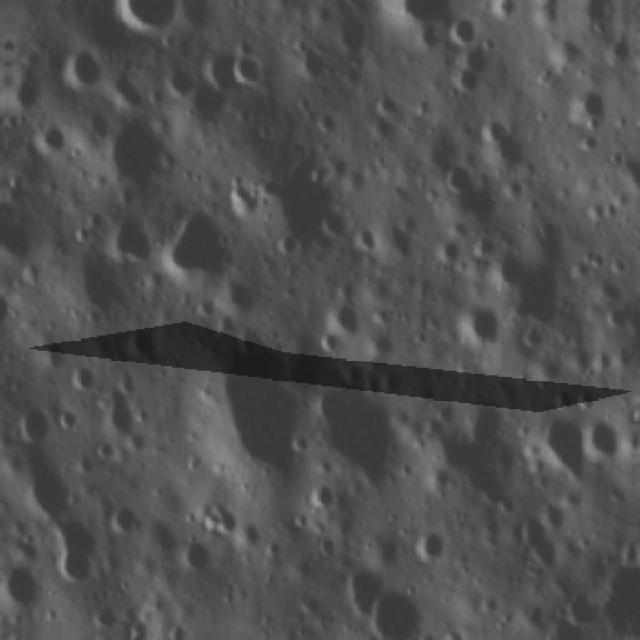crater: (182, 340, 312, 498), (249, 152, 357, 268), (302, 377, 403, 491), (154, 203, 246, 295), (485, 247, 570, 333), (95, 107, 173, 196), (54, 249, 131, 329), (6, 451, 80, 523), (41, 510, 102, 592), (114, 0, 199, 52), (419, 417, 476, 488), (534, 413, 591, 481), (102, 203, 158, 269), (363, 583, 425, 640), (6, 64, 56, 128), (192, 39, 242, 99), (284, 27, 333, 87), (339, 556, 386, 618), (0, 558, 48, 618), (59, 42, 112, 96), (576, 416, 635, 464), (479, 128, 532, 181), (452, 300, 505, 351), (8, 400, 58, 452), (226, 48, 274, 100), (196, 487, 239, 545), (454, 39, 508, 81), (104, 493, 148, 544), (564, 85, 608, 133), (324, 293, 367, 342), (154, 57, 198, 103), (222, 270, 263, 319), (173, 536, 213, 582), (544, 34, 585, 78), (223, 178, 265, 219), (32, 115, 73, 156), (442, 65, 487, 100), (444, 14, 490, 48), (439, 157, 479, 195), (127, 322, 165, 362), (474, 110, 518, 144), (234, 323, 272, 360), (302, 477, 342, 511), (49, 402, 86, 438), (309, 104, 345, 141), (347, 224, 385, 259), (66, 358, 102, 394), (312, 528, 346, 562), (470, 230, 504, 262), (433, 236, 465, 270), (579, 124, 606, 156), (371, 90, 400, 119)
